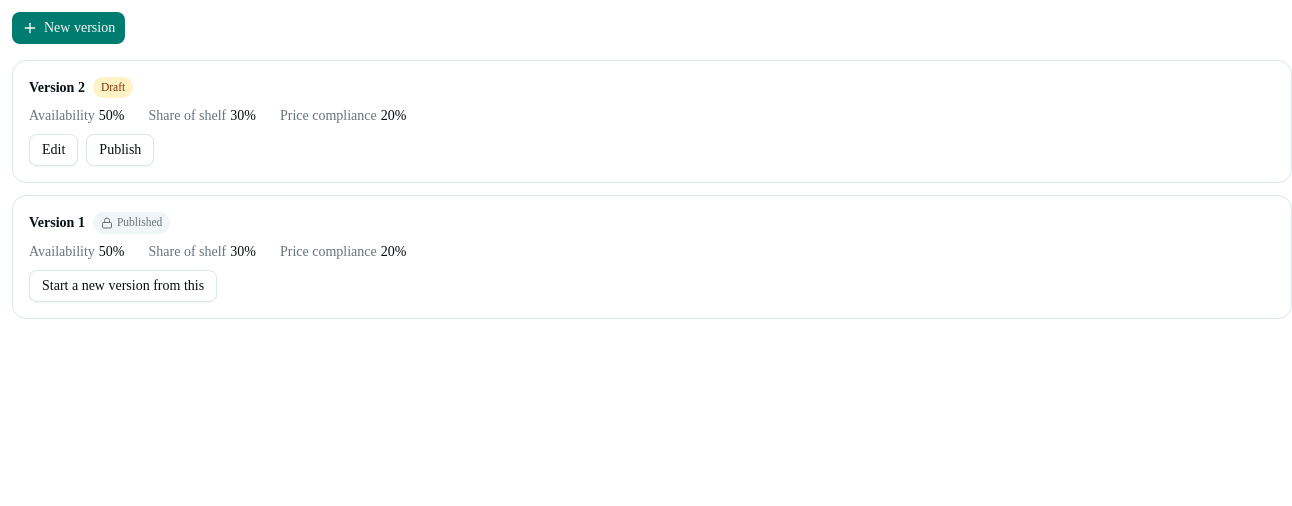
Scenario: <ScoreWeights> › adds up a set whose float sum misses 100, where a naive screen would refuse it
The width and height of the screenshot is (1292, 506).
Step 1. Click the button "New version" → [69, 28], box 12,12 -> 125,44
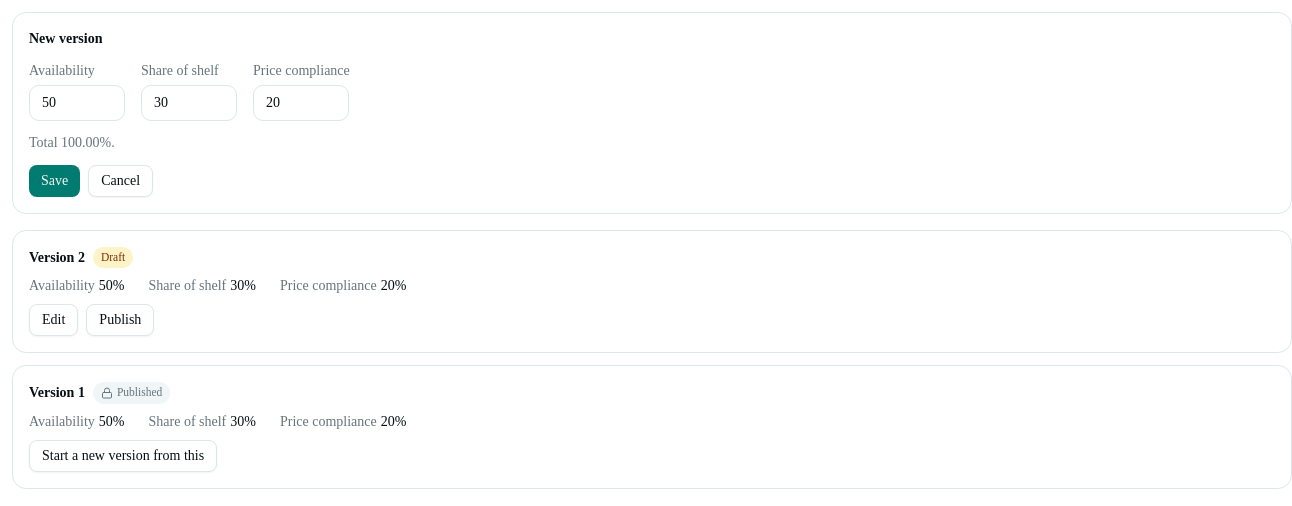
Step 2. Replace the text in the number field labelled "Availability" with "0.01" → [77, 103], box 29,85 -> 125,121
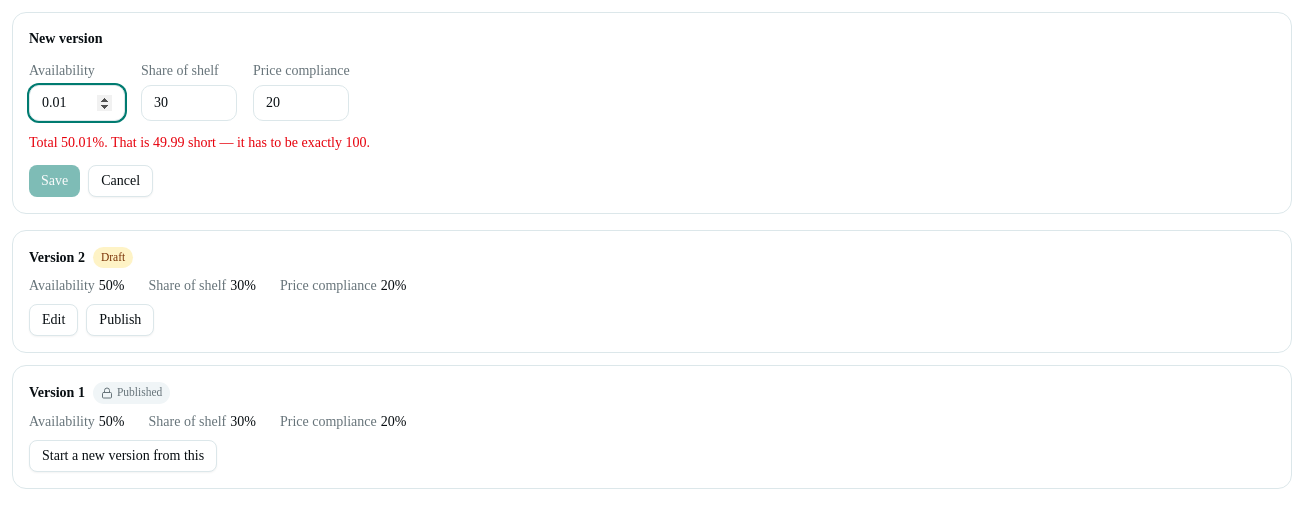
Step 3. Replace the text in the number field labelled "Share of shelf" with "64.04" → [189, 103], box 141,85 -> 237,121
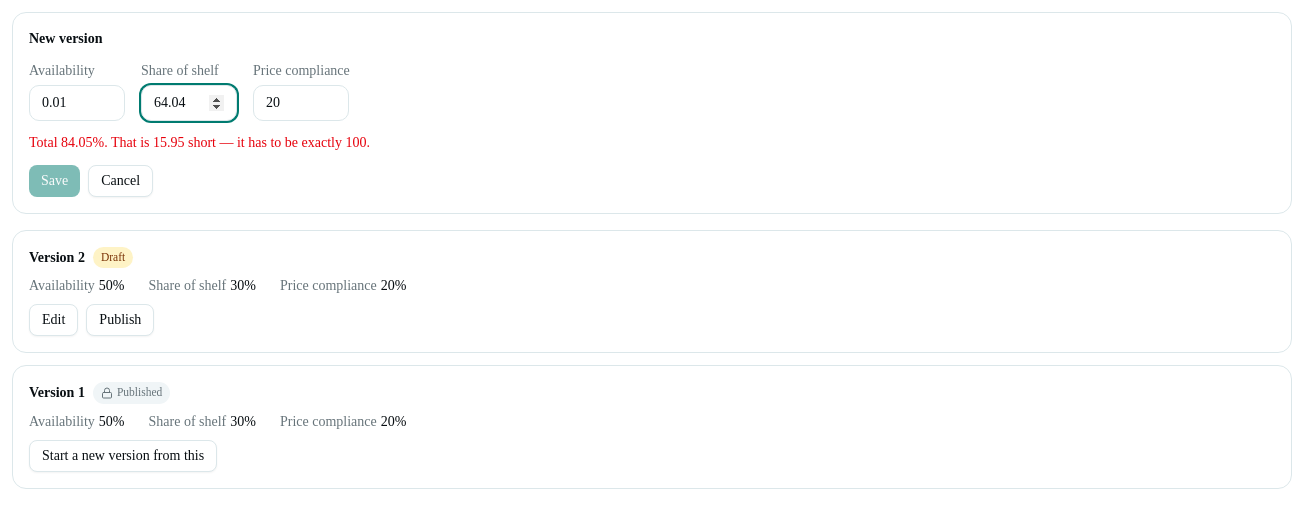
Step 4. Replace the text in the number field labelled "Price compliance" with "35.95" → [301, 103], box 253,85 -> 349,121
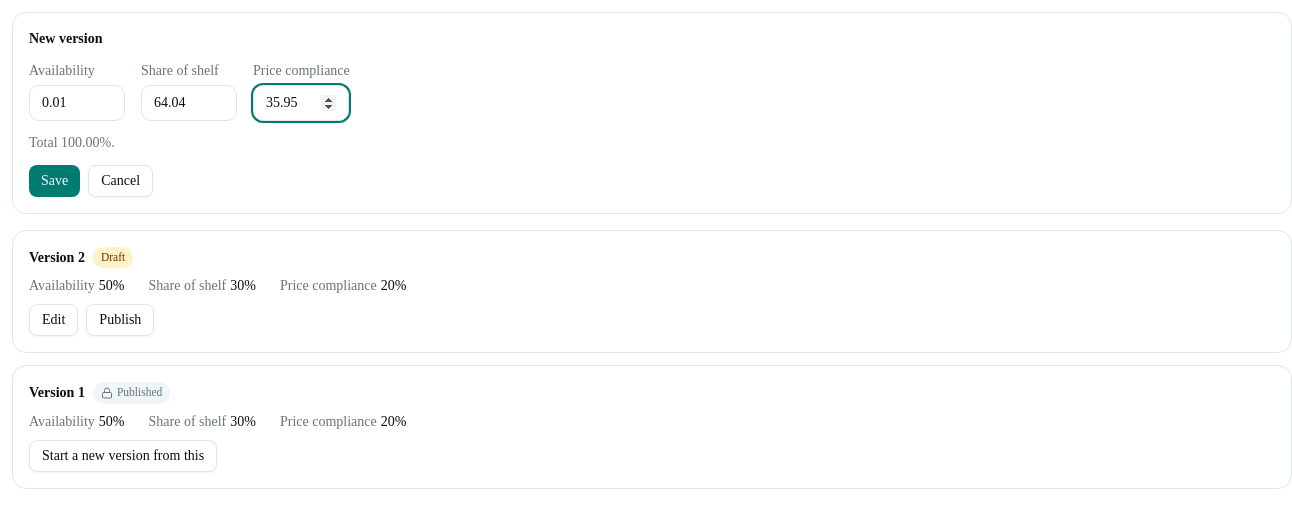
Now the text "Total 100.00%." is shown, box 29,135 -> 115,150
Now the button "Save" is enabled, box 29,165 -> 80,197
